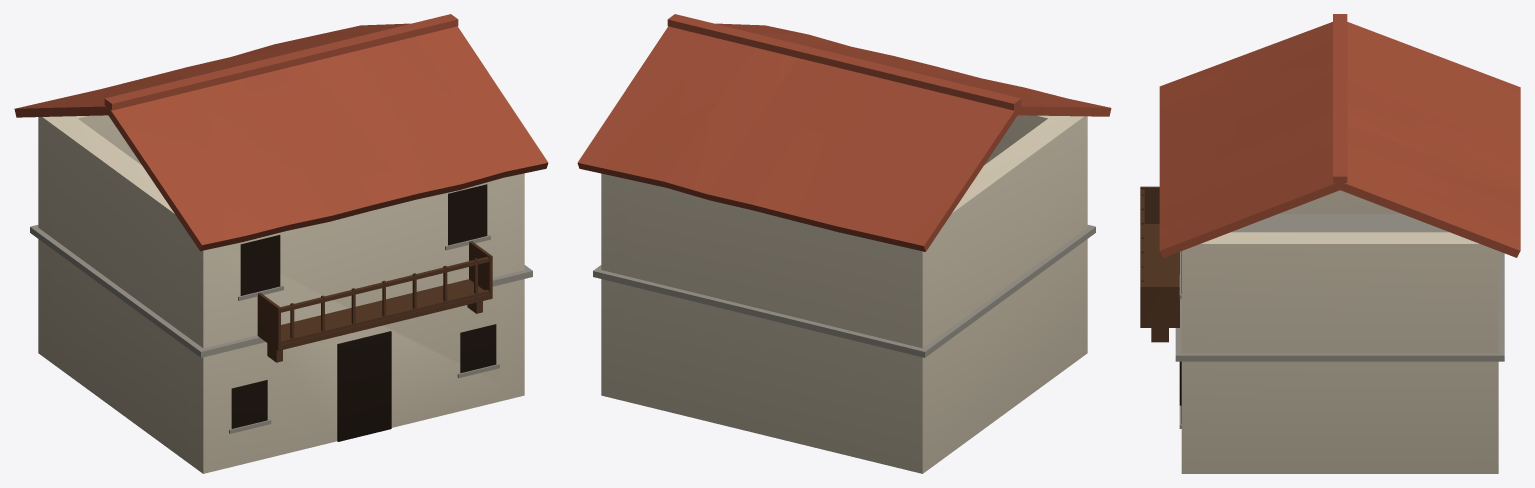
File: colonial_casona_lod0.glb
The picture shows the model from 3 angles, left to right: view 1: azimuth 30°, elevation 25°; view 2: azimuth 150°, elevation 25°; view 3: azimuth 270°, elevation 25°; orthographic projection. The views are drawn at different scales.
Visible parts, largest first — view 1: GEO-Arch_colonial_casona_LOD0; view 2: GEO-Arch_colonial_casona_LOD0; view 3: GEO-Arch_colonial_casona_LOD0.
Boxes of the visible parts, box(x1,y1,x2,y2) form: GEO-Arch_colonial_casona_LOD0: box(14, 14, 548, 473); GEO-Arch_colonial_casona_LOD0: box(577, 14, 1111, 473); GEO-Arch_colonial_casona_LOD0: box(1140, 14, 1520, 473).
Size of the model in its own units: 9.7 by 8.44 by 9.59.
